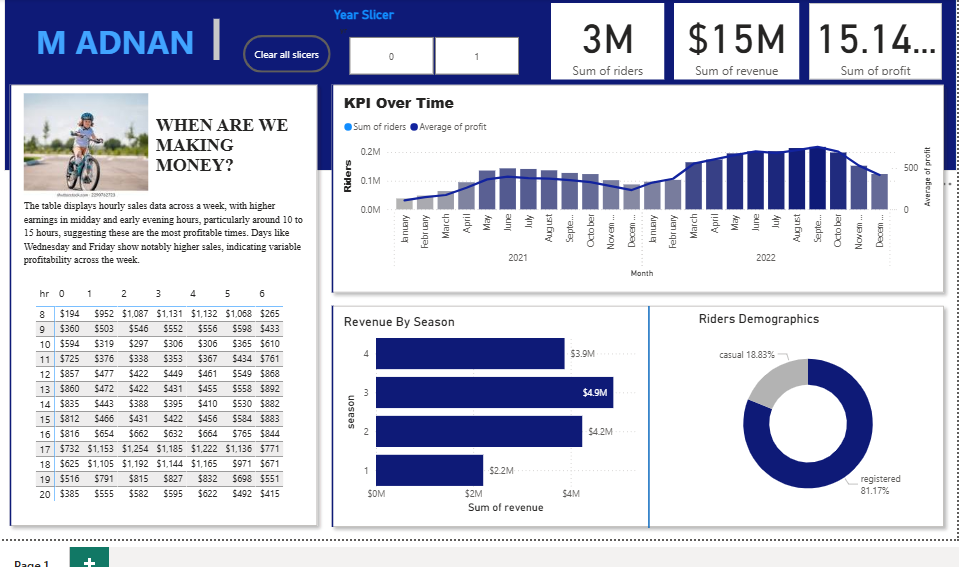

Layout of this report page (visuals, bound fields, positions):
{"tool":"powerbi","page":{"name":"Page 1","canvas":[1280,720],"ordinal":0},"visuals":[{"type":"shape","box":[10,0,1270,229],"z":0},{"type":"cardVisual","fields":{"Data":["Sum(Cleaned_data.riders)"]},"box":[0,97.9,444.9,622.9],"z":1000},{"type":"cardVisual","fields":{"Data":["Sum(Cleaned_data.riders)"]},"box":[428.9,97.9,850.7,311.5],"z":2000},{"type":"cardVisual","fields":{"Data":["Sum(Cleaned_data.riders)"]},"box":[428.9,391.6,850.7,329.3],"z":3000},{"type":"pivotTable","fields":{"Columns":["Cleaned_data.weekday"],"Values":["Avg(Cleaned_data.revenue)"],"Rows":["Cleaned_data.hr"]},"box":[46.3,377.3,350.6,316.8],"z":5000},{"type":"textbox","box":[206.5,149.5,190.4,92.5],"z":6000},{"type":"textbox","box":[30.3,261.6,384.4,115.7],"z":7000},{"type":"lineClusteredColumnComboChart","title":"KPI Over Time","fields":{"Y":["Sum(Cleaned_data.riders)"],"Category":["Cleaned_data.dteday.Variation.Date Hierarchy.Year","Cleaned_data.dteday.Variation.Date Hierarchy.Month"],"Y2":["Avg(Cleaned_data.profit)"]},"box":[457.4,124.1,793.5,252.5],"z":8000},{"type":"clusteredBarChart","title":"Revenue By Season","fields":{"Category":["Cleaned_data.season"],"Y":["Sum(Cleaned_data.revenue)"]},"box":[457.4,419.8,411.2,271.2],"z":9000},{"type":"donutChart","title":"Riders Demographics","fields":{"Category":["Cleaned_data.rider_type"],"Y":["Sum(Cleaned_data.riders)"]},"box":[930.6,415.5,301.5,281.3],"z":10000},{"type":"shape","box":[738.7,409.7,261.1,295.8],"z":11000},{"type":"card","title":"KPI Over Time","fields":{"Values":["Sum(Cleaned_data.riders)"]},"box":[738.7,5.8,151.5,102.4],"z":12000},{"type":"card","fields":{"Values":["Sum(Cleaned_data.profit)"]},"box":[1082.1,5.8,177.5,102.4],"z":13000},{"type":"card","fields":{"Values":["Sum(Cleaned_data.revenue)"]},"box":[903.2,5.8,167.4,102.4],"z":14000},{"type":"textbox","box":[46.2,21.6,255.4,66.4],"z":15000},{"type":"slicer","title":"Year Slicer","fields":{"Values":["Cleaned_data.yr"]},"box":[444.4,10.1,275.6,96.7],"z":16000},{"type":"actionButton","box":[327.5,47.6,116.9,50.5],"z":17000},{"type":"image","box":[30.7,106.7,176,178.7],"z":17001}]}

Visuals, with their boxes on the page's 1280x720 design canvas (x1, y1, x2, y2). These are canvas units, not pixel positions in the 959x567 screenshot, which may show the page scaled, cropped or inside an application window:
shape: (10,0,1280,229)
cardVisual - Sum(Cleaned_data.riders): (0,98,445,721)
cardVisual - Sum(Cleaned_data.riders): (429,98,1280,409)
cardVisual - Sum(Cleaned_data.riders): (429,392,1280,721)
pivotTable - Cleaned_data.weekday x Avg(Cleaned_data.revenue): (46,377,397,694)
textbox: (206,150,397,242)
textbox: (30,262,415,377)
"KPI Over Time" lineClusteredColumnComboChart: (457,124,1251,377)
"Revenue By Season" clusteredBarChart: (457,420,869,691)
"Riders Demographics" donutChart: (931,416,1232,697)
shape: (739,410,1000,706)
"KPI Over Time" card: (739,6,890,108)
card - Sum(Cleaned_data.profit): (1082,6,1260,108)
card - Sum(Cleaned_data.revenue): (903,6,1071,108)
textbox: (46,22,302,88)
"Year Slicer" slicer: (444,10,720,107)
actionButton: (328,48,444,98)
image: (31,107,207,285)
